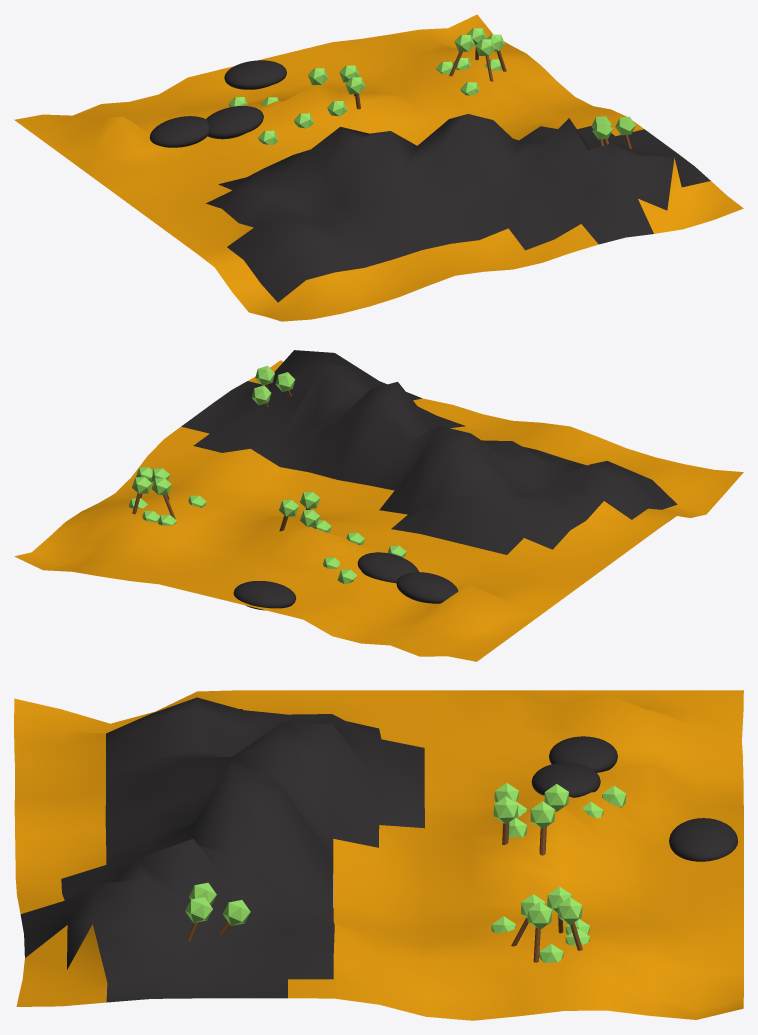
The model's file is 3Load.fbx.
3 renders of one model, top to bottom at view 1: azimuth 30°, elevation 25°; view 2: azimuth 150°, elevation 25°; view 3: azimuth 270°, elevation 25°, orthographic. The views are drawn at different scales.
Parts seen in each view (by area): view 1: Plane.026, Icosphere.009, Sphere.002, Icosphere.018, Sphere.003, Sphere.001, Cylinder.001; view 2: Plane.026, Icosphere.009, Sphere.002, Sphere.001, Icosphere.018, Sphere.003; view 3: Plane.026, Icosphere.009, Sphere.001, Icosphere.018, Sphere.002, Sphere.003, Cylinder.001.
Boxes of the visible parts, <box> form: Plane.026: <box>14,14,743,321</box>; Icosphere.009: <box>308,28,635,139</box>; Sphere.002: <box>149,116,209,147</box>; Icosphere.018: <box>228,57,501,145</box>; Sphere.003: <box>206,106,263,139</box>; Sphere.001: <box>224,60,286,89</box>; Cylinder.001: <box>354,47,631,149</box>; Plane.026: <box>14,350,743,661</box>; Icosphere.009: <box>132,365,320,526</box>; Sphere.002: <box>396,572,458,603</box>; Sphere.001: <box>233,581,296,610</box>; Icosphere.018: <box>128,495,406,583</box>; Sphere.003: <box>357,552,418,582</box>; Plane.026: <box>14,690,743,1020</box>; Icosphere.009: <box>185,784,582,929</box>; Sphere.001: <box>669,818,737,861</box>; Icosphere.018: <box>491,783,626,962</box>; Sphere.002: <box>549,736,617,772</box>; Sphere.003: <box>531,762,600,797</box>; Cylinder.001: <box>187,822,582,962</box>.
Size of the model in its own units: 5108 by 1070 by 5113.
